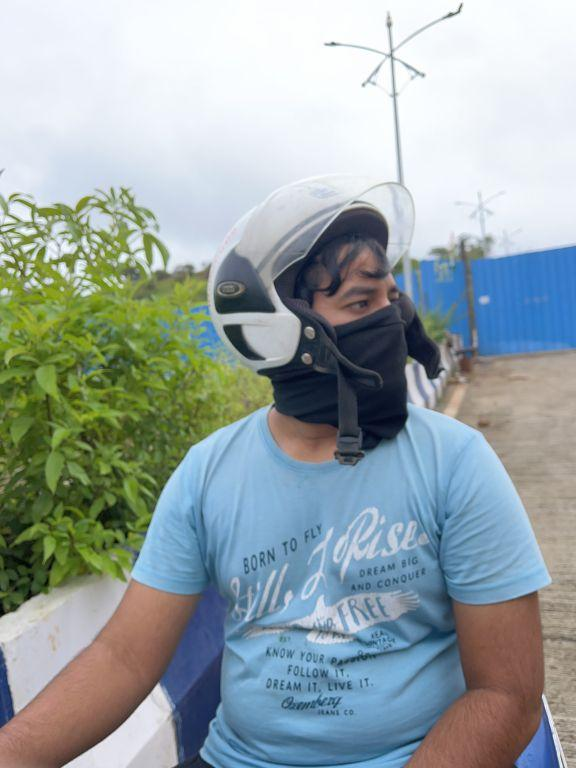helmet: (197, 160, 424, 397)
